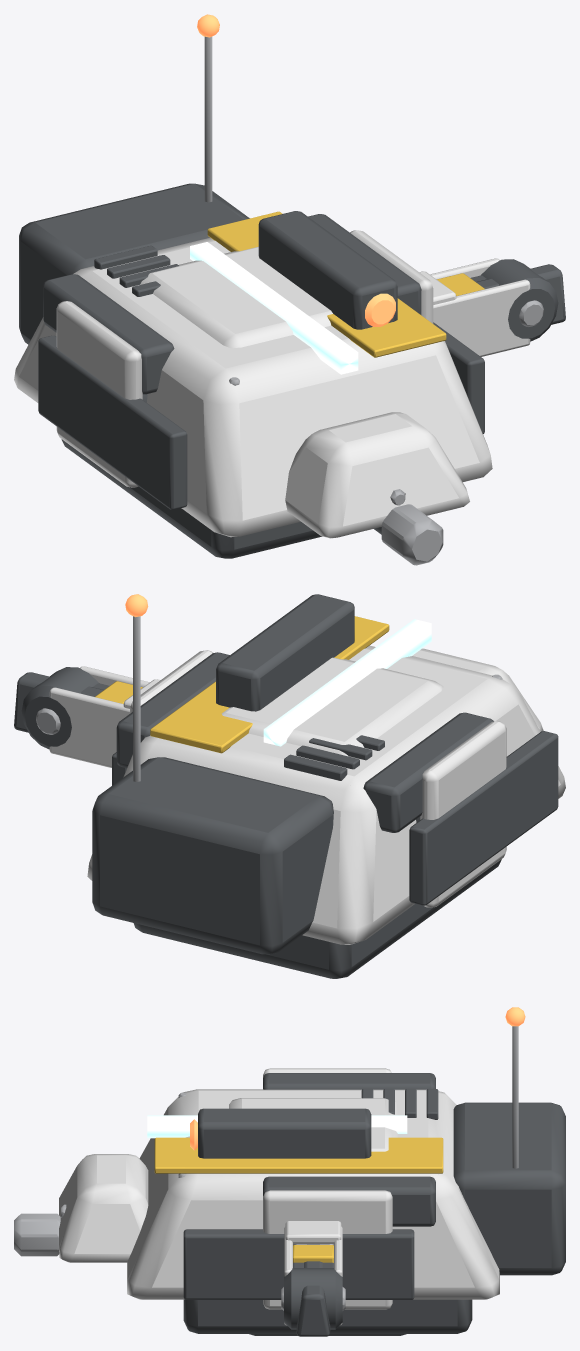
File: rifle.glb
The picture shows the model from 3 angles, top to bottom: view 1: azimuth 30°, elevation 25°; view 2: azimuth 150°, elevation 25°; view 3: azimuth 270°, elevation 25°; orthographic projection. The views are drawn at different scales.
Visible parts, largest first — view 1: Hull, Turret, LegUpper, Barrel, LegLower; view 2: Hull, Turret, LegUpper, LegLower; view 3: Hull, Turret, LegUpper, LegLower, Barrel.
Boxes of the visible parts, left/top/right/bottom form: Hull: left=14, top=14, right=492, bottom=558; Turret: left=140, top=211, right=397, bottom=348; LegUpper: left=419, top=258, right=558, bottom=356; Barrel: left=374, top=489, right=443, bottom=565; LegLower: left=437, top=264, right=565, bottom=324; Hull: left=87, top=594, right=565, bottom=978; Turret: left=216, top=594, right=443, bottom=756; LegUpper: left=21, top=666, right=160, bottom=767; LegLower: left=14, top=672, right=142, bottom=732; Hull: left=59, top=1007, right=565, bottom=1335; Turret: left=190, top=1098, right=397, bottom=1158; LegUpper: left=281, top=1221, right=345, bottom=1329; LegLower: left=293, top=1244, right=333, bottom=1336; Barrel: left=14, top=1204, right=66, bottom=1256.
Size of the model in its own units: 0.637 by 0.494 by 0.765.
